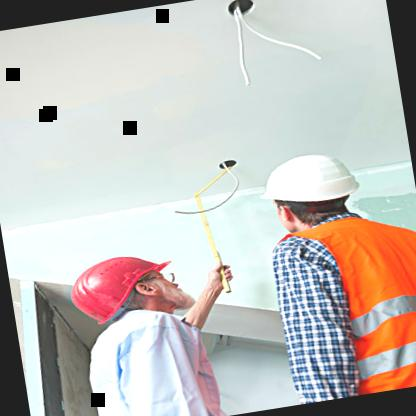helmet: (238, 136, 378, 247), (46, 238, 186, 336)
